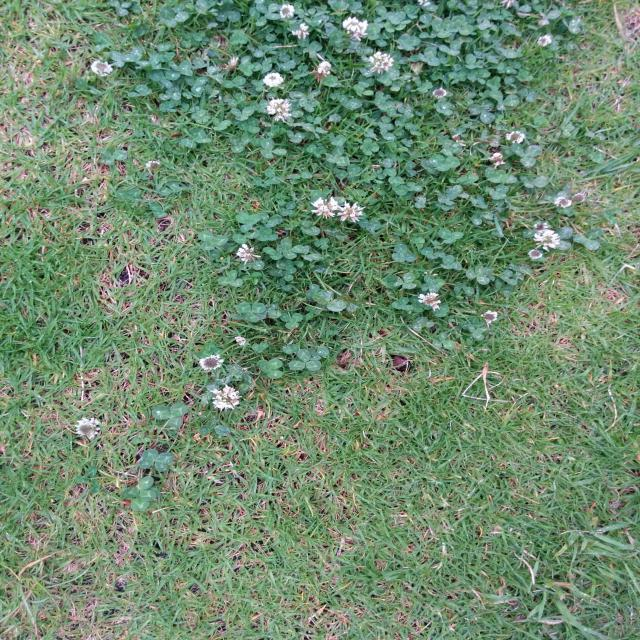Four Leaf Clover: (138, 449, 175, 471)
